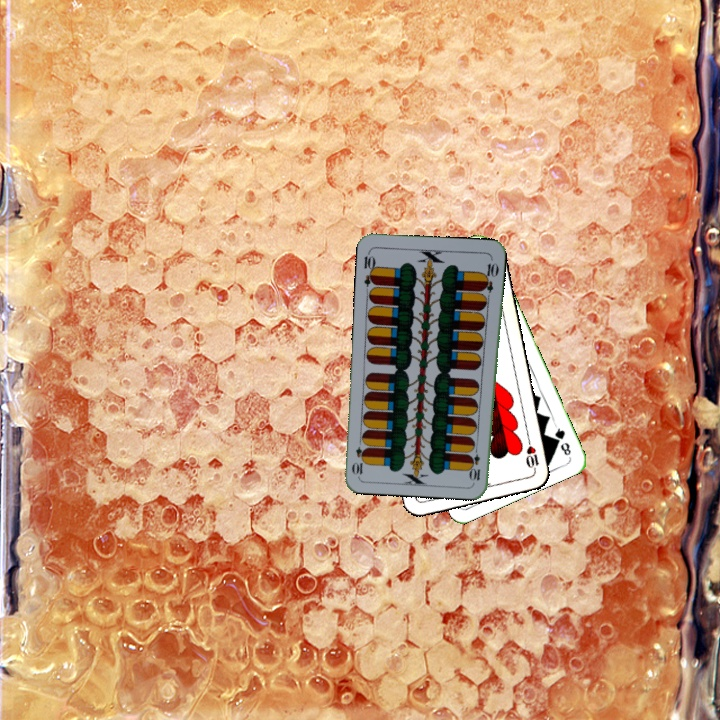E10: (360, 248, 379, 288), (468, 443, 483, 483)
G8: (551, 421, 574, 458)
H10: (522, 435, 541, 475)
